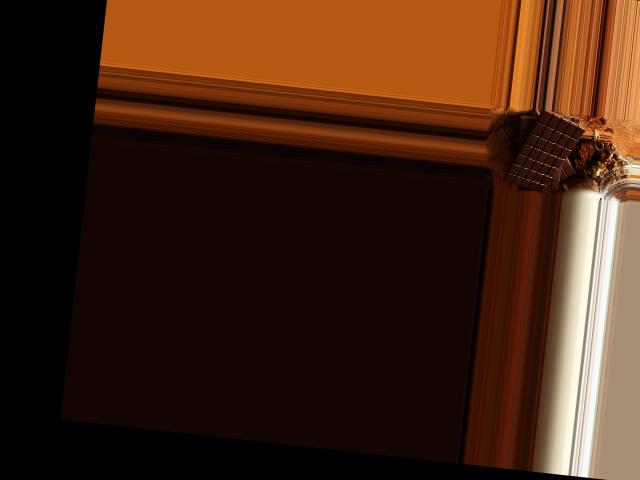chocolate: (501, 106, 591, 194)
